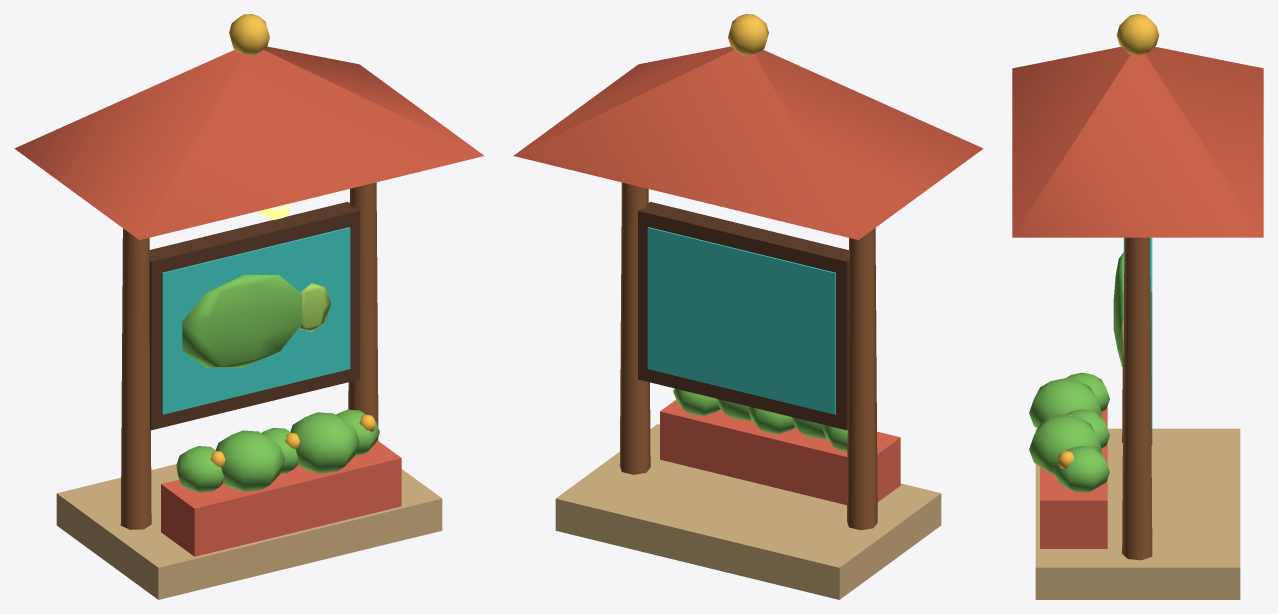
The model's file is decorative-kiosk.glb.
3 views of the same model, side by side, from view 1: azimuth 30°, elevation 25°; view 2: azimuth 150°, elevation 25°; view 3: azimuth 270°, elevation 25° (orthographic).
Visible parts, largest first — view 1: Mesh_terracotta, Mesh_sandStone, Mesh_leafLight, Mesh_turquoise, Mesh_coral, Mesh_wood, Mesh_darkWood, Mesh_gold, Mesh_leafLime; view 2: Mesh_terracotta, Mesh_sandStone, Mesh_turquoise, Mesh_wood, Mesh_coral, Mesh_darkWood, Mesh_leafLight, Mesh_gold; view 3: Mesh_terracotta, Mesh_sandStone, Mesh_wood, Mesh_leafLight, Mesh_coral, Mesh_gold, Mesh_turquoise.
Boxes of the visible parts, box(x1,y1,x2,y2) form: Mesh_terracotta: box(14, 46, 484, 239); Mesh_sandStone: box(56, 464, 442, 599); Mesh_leafLight: box(176, 274, 379, 492); Mesh_turquoise: box(162, 227, 350, 414); Mesh_coral: box(161, 440, 401, 556); Mesh_wood: box(120, 182, 378, 529); Mesh_darkWood: box(149, 202, 359, 430); Mesh_gold: box(229, 14, 269, 55); Mesh_leafLime: box(298, 283, 330, 332); Mesh_terracotta: box(513, 46, 983, 239); Mesh_sandStone: box(555, 424, 941, 599); Mesh_turquoise: box(647, 227, 835, 414); Mesh_wood: box(619, 182, 877, 530); Mesh_coral: box(660, 400, 900, 504); Mesh_darkWood: box(638, 202, 849, 430); Mesh_leafLight: box(673, 388, 847, 451); Mesh_gold: box(728, 14, 768, 55); Mesh_terracotta: box(1012, 46, 1263, 237); Mesh_sandStone: box(1035, 428, 1240, 599); Mesh_wood: box(1122, 237, 1152, 560); Mesh_leafLight: box(1029, 252, 1123, 492); Mesh_coral: box(1040, 406, 1107, 548); Mesh_gold: box(1116, 14, 1159, 55); Mesh_turquoise: box(1123, 237, 1152, 433).
Size of the model in its own units: 2.25 by 3.19 by 1.41.
